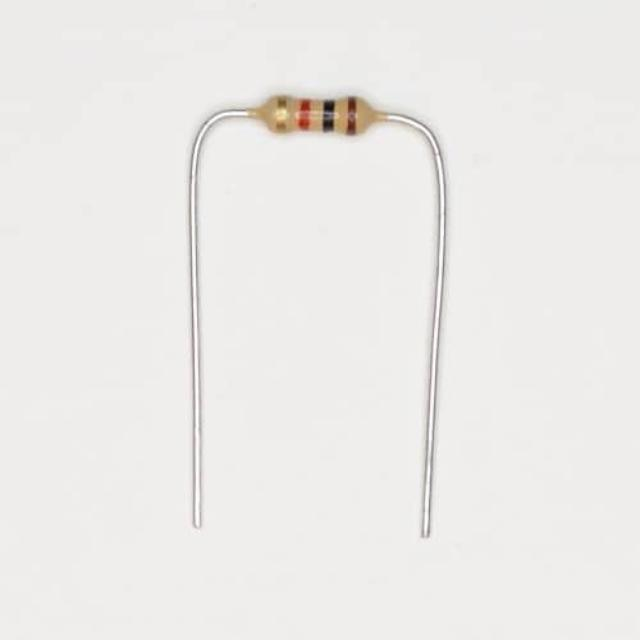black: (323, 99, 335, 134)
brown: (347, 94, 356, 134)
gold: (276, 95, 287, 133)
red: (299, 97, 311, 133)
resistor: (233, 65, 409, 162)
